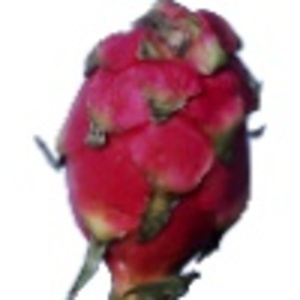pitaia: (34, 1, 268, 300)
